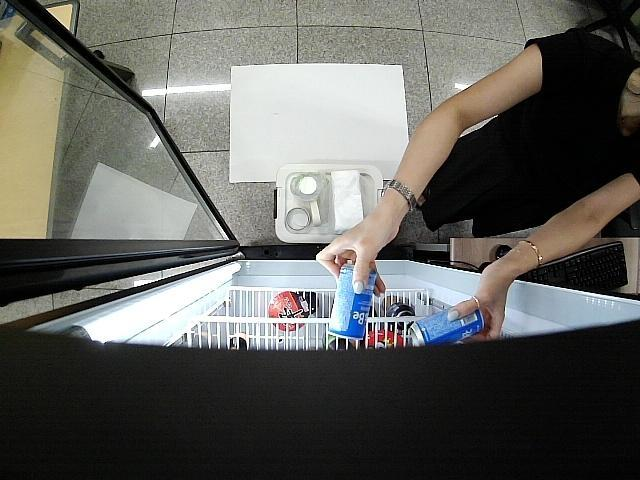15_letsbe: (326, 262, 378, 342), (409, 299, 485, 346)
